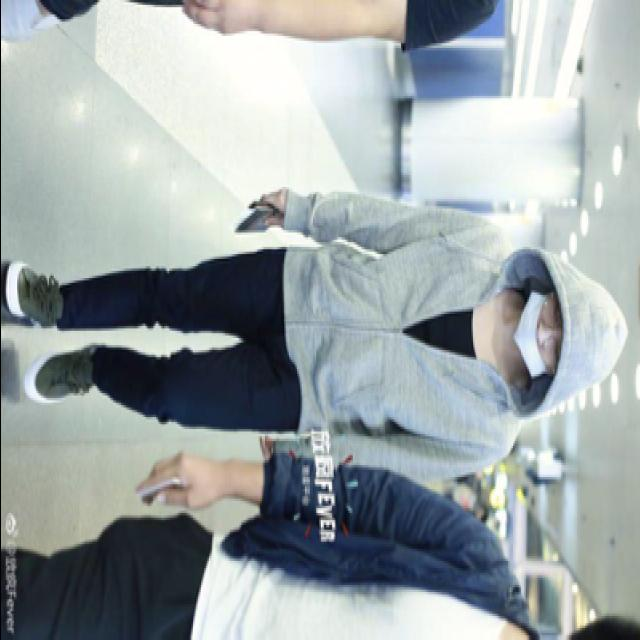mask_weared_incorrect: (514, 288, 566, 376)
